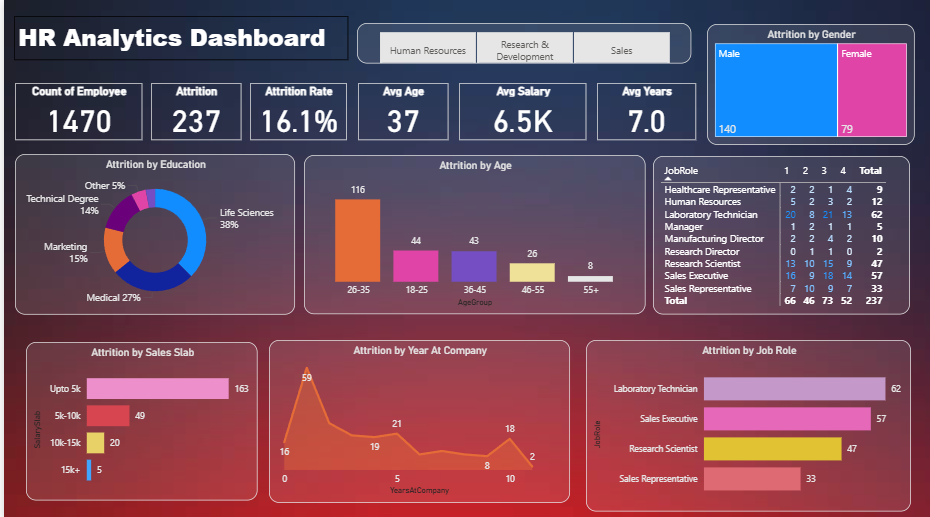

The page's visual inventory and layout, read from the dashboard file:
{"tool":"powerbi","page":{"name":"Page 1","canvas":[1280,720],"ordinal":0},"visuals":[{"type":"card","title":"Count of Employee","fields":{"Values":["CountNonNull(HR_Analytics.EmpID)"]},"box":[15.2,114.9,176.1,79],"z":0},{"type":"card","title":"Attrition","fields":{"Values":["Sum(HR_Analytics.AttritionCount)"]},"box":[203.5,114.9,124.5,79],"z":1000},{"type":"card","title":"Attrition Rate","fields":{"Values":["HR_Analytics.AttributeRate"]},"box":[340.1,114.9,133.6,79],"z":2000},{"type":"card","title":"Avg Age","fields":{"Values":["Avg(HR_Analytics.Age)"]},"box":[488.9,114.9,124.5,79],"z":3000},{"type":"card","title":"Avg Salary","fields":{"Values":["Avg(HR_Analytics.MonthlyIncome)"]},"box":[628.6,114.9,176.1,79],"z":4000},{"type":"card","title":"Avg Years","fields":{"Values":["Avg(HR_Analytics.YearsAtCompany)"]},"box":[819.9,114.9,136.7,79],"z":5000},{"type":"donutChart","title":"Attrition by Education","fields":{"Category":["HR_Analytics.EducationField"],"Y":["Sum(HR_Analytics.AttritionCount)"]},"box":[15.2,212.6,387.2,221.7],"z":6000},{"type":"columnChart","title":"Attrition by Age","fields":{"Category":["HR_Analytics.AgeGroup"],"Y":["Sum(HR_Analytics.AttritionCount)"]},"box":[414.5,214.1,472.2,220.2],"z":7000},{"type":"pivotTable","fields":{"Rows":["HR_Analytics.JobRole"],"Columns":["HR_Analytics.JobSatisfaction"],"Values":["Sum(HR_Analytics.AttritionCount)"]},"box":[897.4,215.6,355.3,218.6],"z":8000},{"type":"barChart","title":"Attrition by Sales Slab","fields":{"Category":["HR_Analytics.SalarySlab"],"Y":["Sum(HR_Analytics.AttritionCount)"]},"box":[30.4,472.2,320.4,218.6],"z":9000},{"type":"barChart","title":"Attrition by Job Role","fields":{"Category":["HR_Analytics.JobRole"],"Y":["Sum(HR_Analytics.AttritionCount)"]},"box":[804.7,469.2,449.4,236.9],"z":9001},{"type":"areaChart","title":"Attrition by Year At Company","fields":{"Category":["HR_Analytics.YearsAtCompany"],"Y":["Sum(HR_Analytics.AttritionCount)"]},"box":[365.9,469.2,416,224.7],"z":9002},{"type":"treemap","title":"Attrition by Gender","fields":{"Group":["HR_Analytics.Gender"],"Values":["Sum(HR_Analytics.AttritionCount)"]},"box":[971.8,33.4,287,167],"z":9003},{"type":"slicer","fields":{"Values":["HR_Analytics.Department"]},"box":[487.4,31.9,461.6,56.2],"z":9004},{"type":"textbox","box":[13.7,22.8,461.6,60.7],"z":9005}]}

Visuals, with their boxes in screenshot pixels (x1, y1, x2, y2), scaled from the page's 1280x720 canvas onto the 930x517 screenshot:
"Count of Employee" card: detection(11, 83, 139, 139)
"Attrition" card: detection(148, 83, 238, 139)
"Attrition Rate" card: detection(247, 83, 344, 139)
"Avg Age" card: detection(355, 83, 446, 139)
"Avg Salary" card: detection(457, 83, 585, 139)
"Avg Years" card: detection(596, 83, 695, 139)
"Attrition by Education" donutChart: detection(11, 153, 292, 312)
"Attrition by Age" columnChart: detection(301, 154, 644, 312)
pivotTable - HR_Analytics.JobRole x HR_Analytics.JobSatisfaction: detection(652, 155, 910, 312)
"Attrition by Sales Slab" barChart: detection(22, 339, 255, 496)
"Attrition by Job Role" barChart: detection(585, 337, 911, 507)
"Attrition by Year At Company" areaChart: detection(266, 337, 568, 498)
"Attrition by Gender" treemap: detection(706, 24, 915, 144)
slicer - HR_Analytics.Department: detection(354, 23, 690, 63)
textbox: detection(10, 16, 345, 60)
